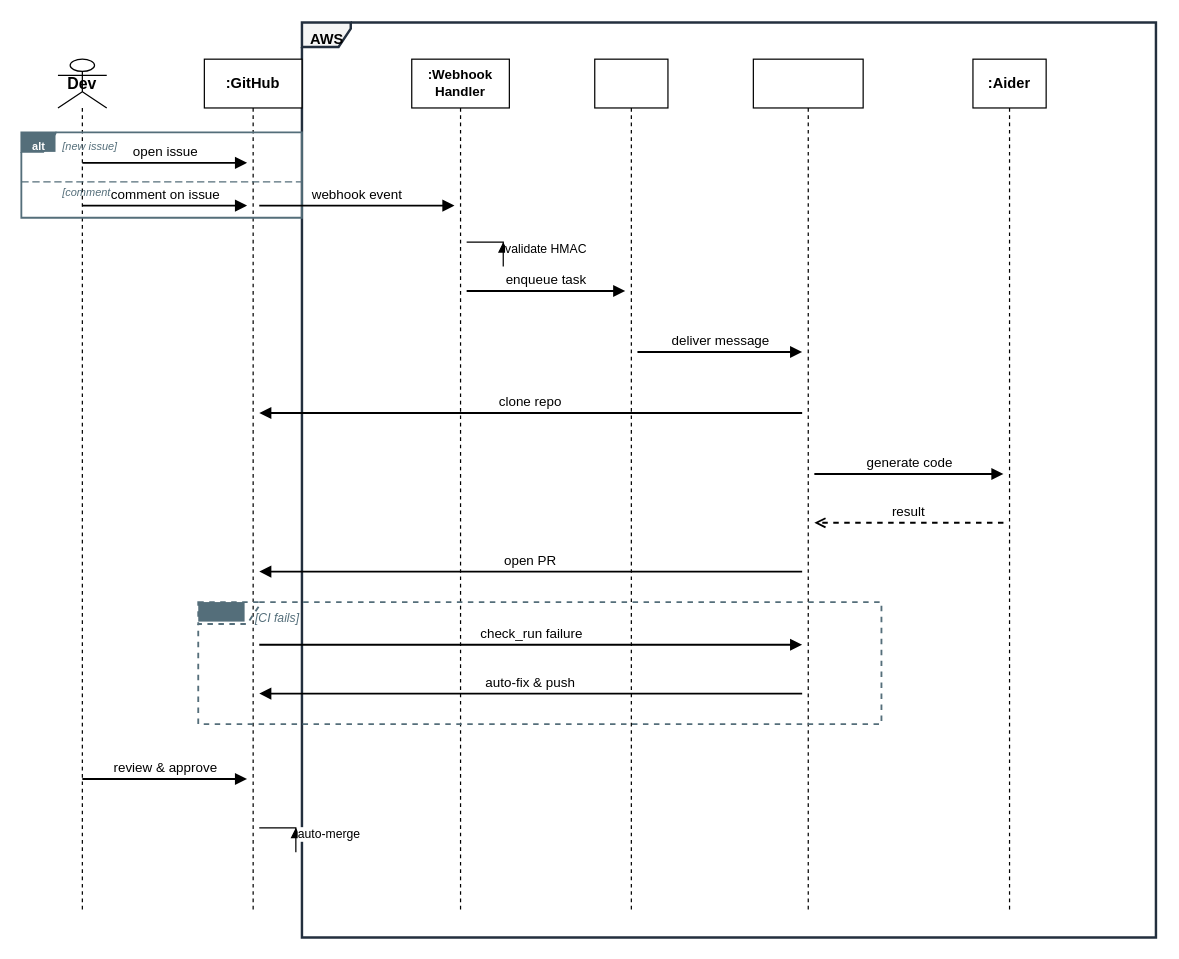
Image size: 1179x959. Some labels were removed from this diagram. Each missing label, with the box of its shape:
:Orchestrator: (752, 58, 863, 913)
:SQS: (594, 58, 668, 913)
loop: (198, 601, 244, 621)
